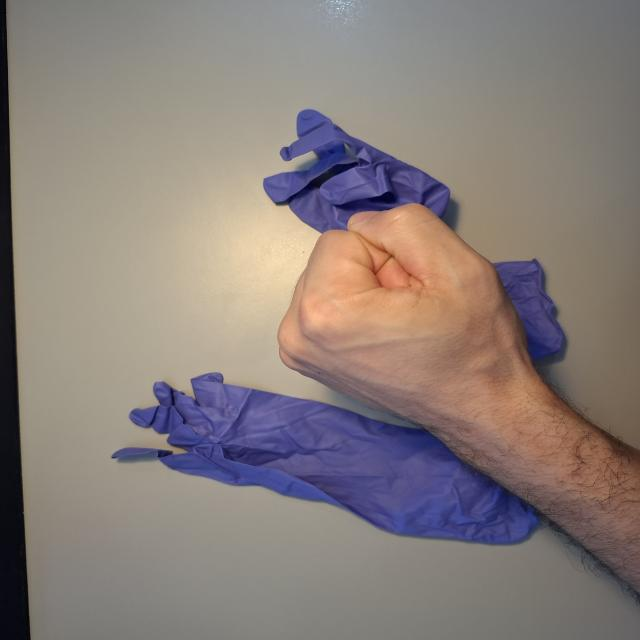glove_off: (272, 200, 566, 447)
